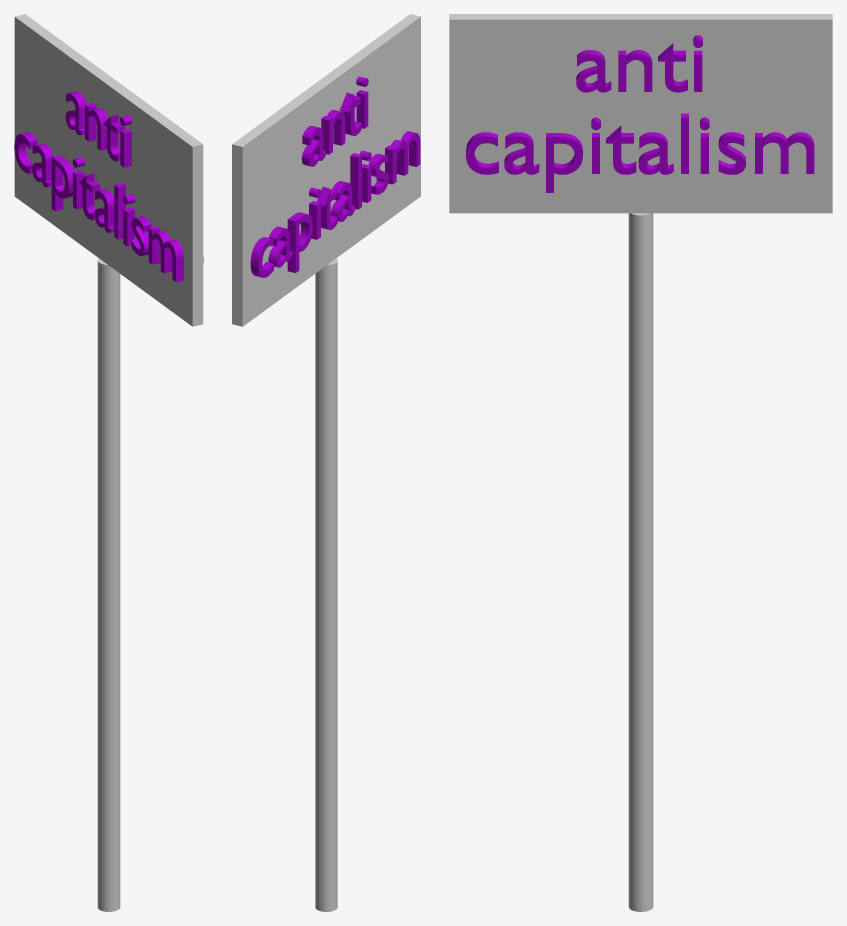
Rendered from sign.glb.
3 renders of one model, left to right at view 1: azimuth 30°, elevation 25°; view 2: azimuth 150°, elevation 25°; view 3: azimuth 270°, elevation 25°, orthographic. The views are drawn at different scales.
Parts seen in each view (by area): view 1: Cube, sign, Text; view 2: Cube, sign, Text; view 3: Cube, sign, Text.
Part boxes in pixels (bbox=[...]): Cube: bbox=[14, 14, 203, 326]; sign: bbox=[97, 258, 120, 911]; Text: bbox=[14, 91, 203, 282]; Cube: bbox=[232, 14, 420, 326]; sign: bbox=[315, 258, 337, 911]; Text: bbox=[250, 76, 420, 277]; Cube: bbox=[449, 14, 832, 213]; sign: bbox=[628, 213, 653, 911]; Text: bbox=[466, 35, 814, 192].
Size of the model in its own units: 0.216 by 6.39 by 2.5.
